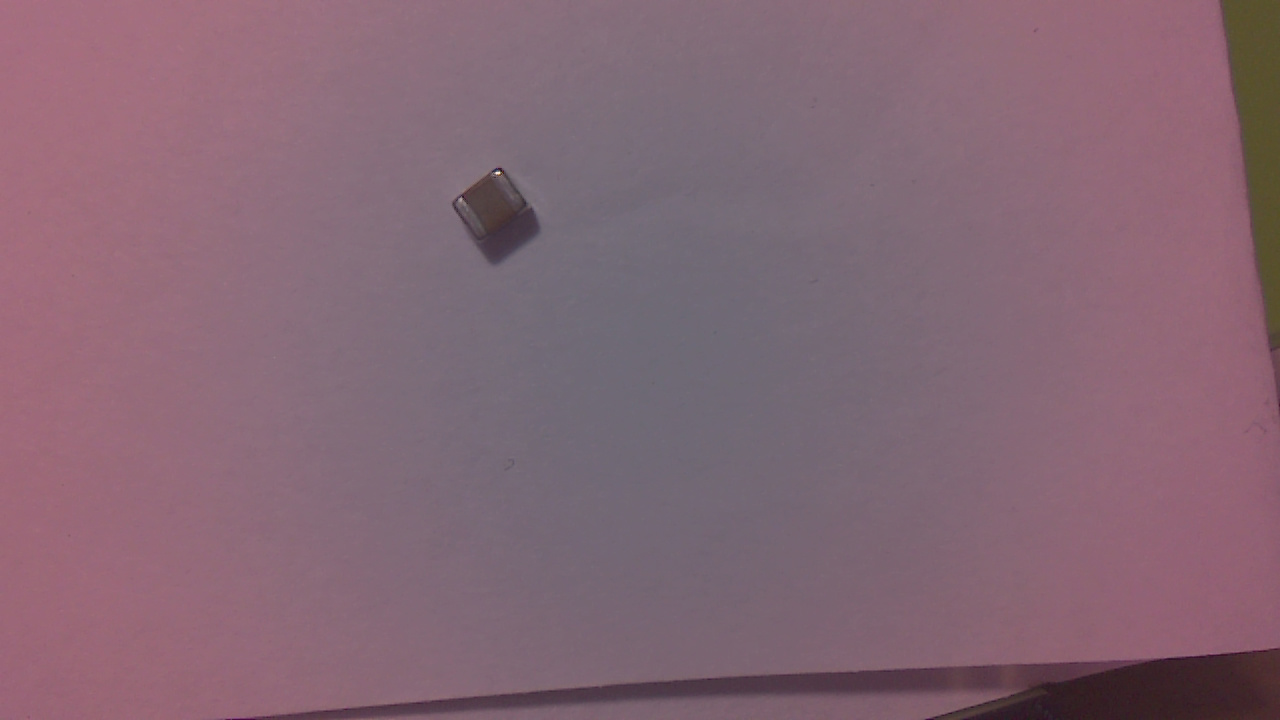Condensator: (457, 170, 534, 256)
